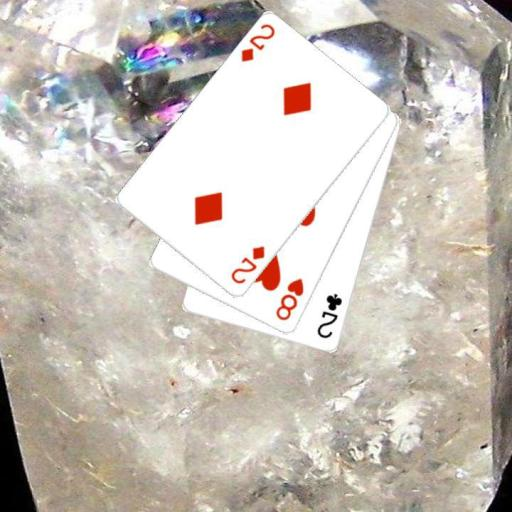2C: (314, 291, 344, 341)
2D: (228, 243, 267, 286), (238, 21, 277, 64)
8H: (272, 275, 306, 323)
